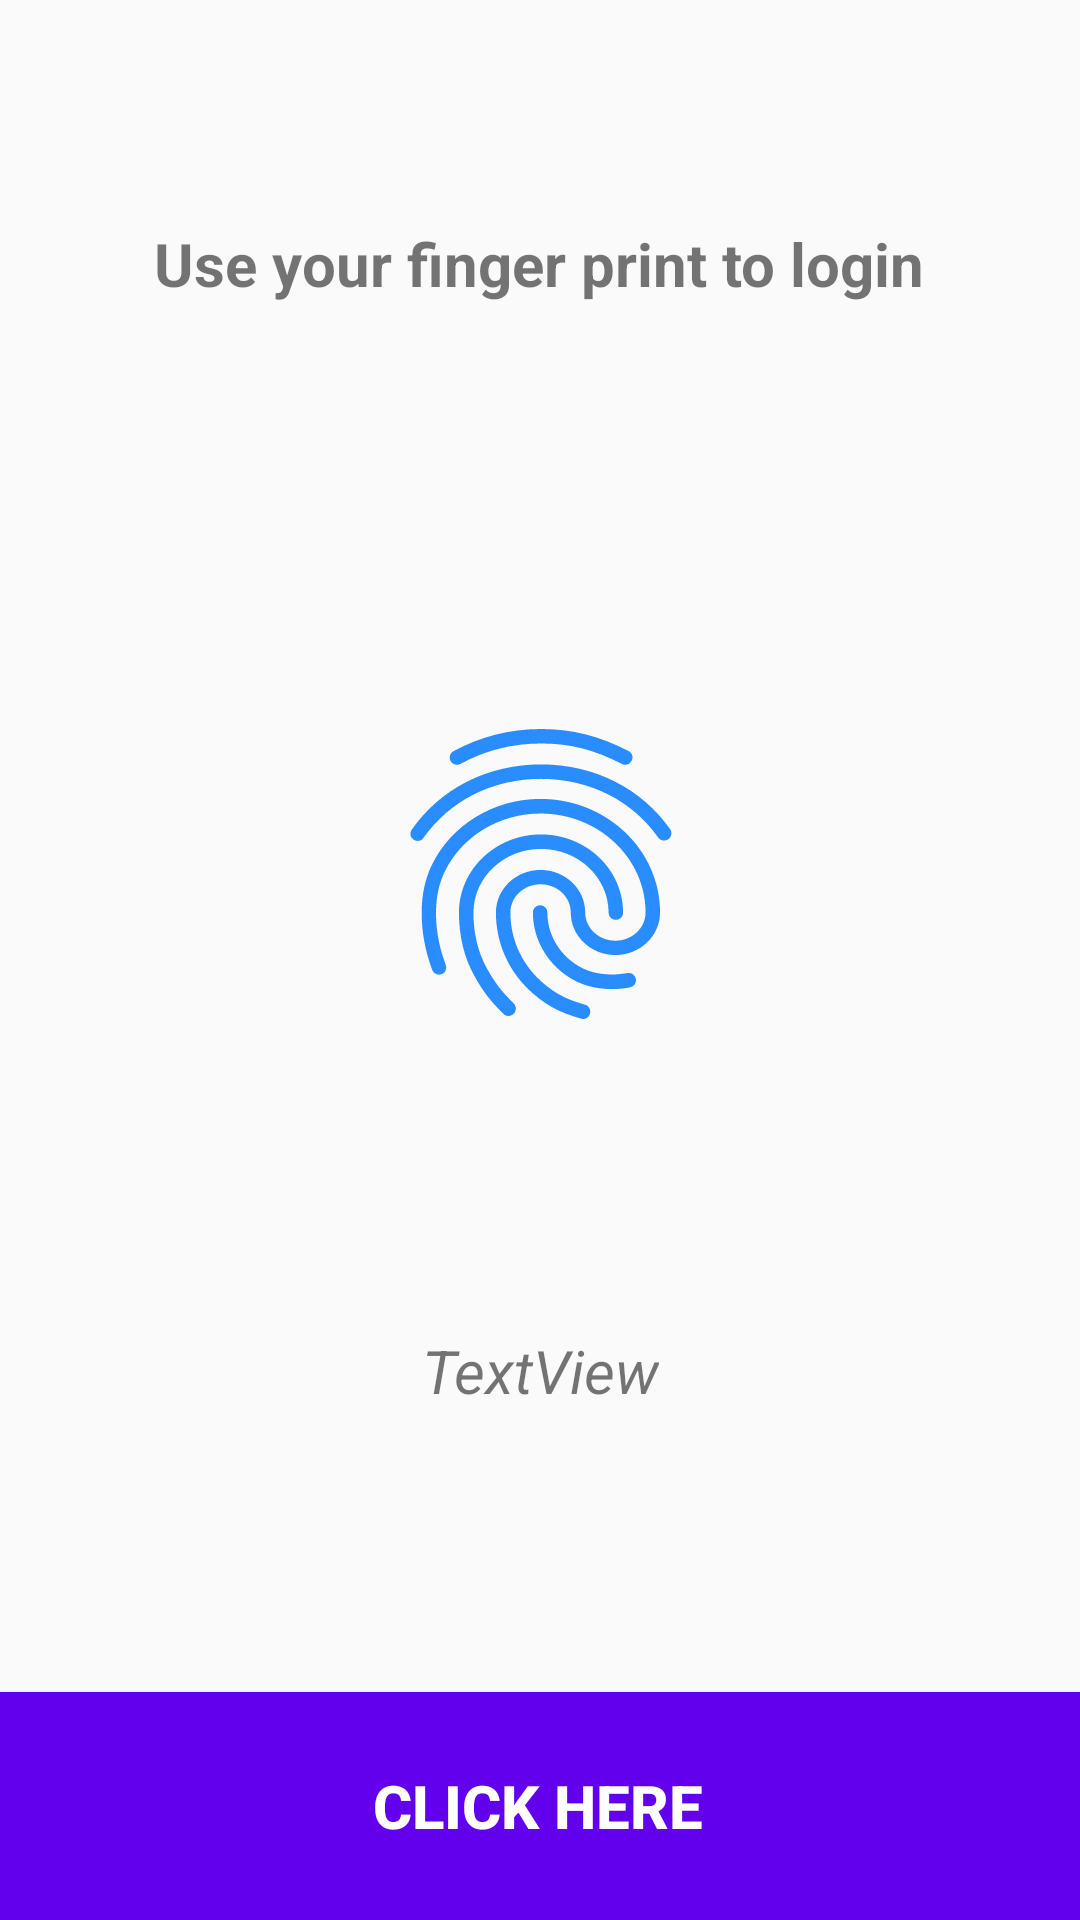

Point at icon controls on the screen. Image size 1080*1920, points as (x=x, y=y).
fingerprint: (x=541, y=874)
